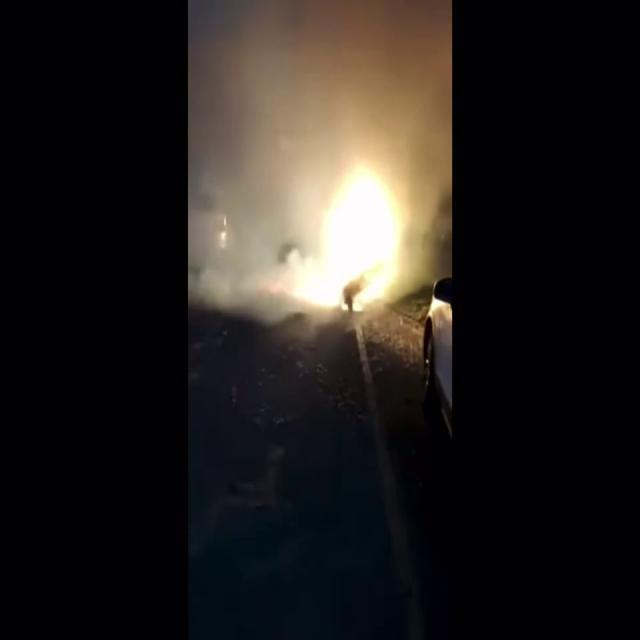Fire: (291, 151, 418, 317)
Smoke: (189, 0, 451, 189), (183, 1, 314, 313)
